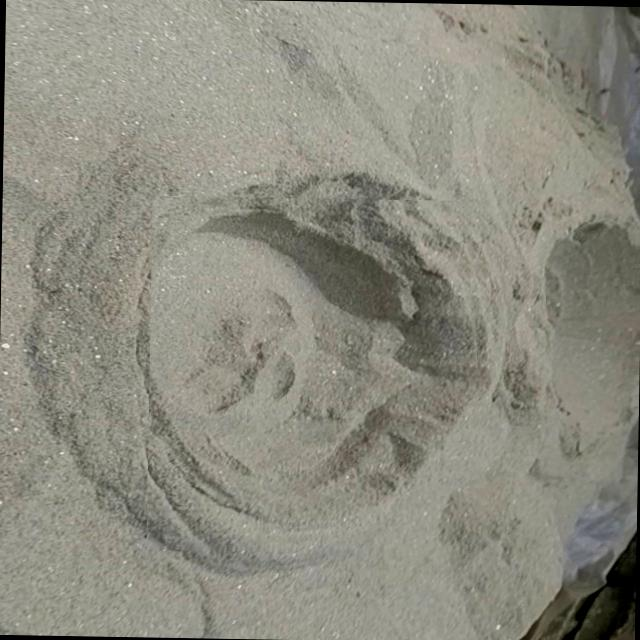C20: (149, 196, 480, 548), (545, 220, 638, 433)
